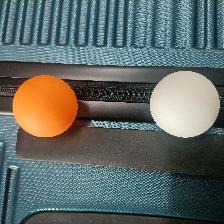WhiteBall: (147, 70, 220, 137)
YellowBall: (11, 74, 78, 138)
